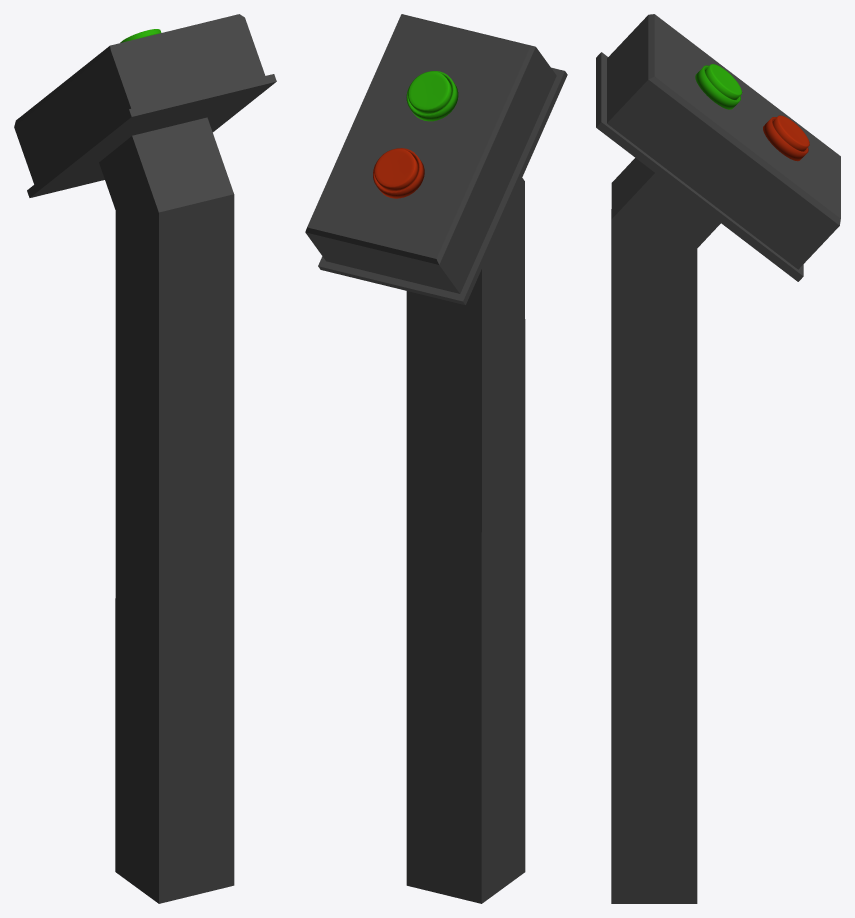
The model's file is ControlPanelDraco.gltf.
3 views of the same model, side by side, from view 1: azimuth 30°, elevation 25°; view 2: azimuth 150°, elevation 25°; view 3: azimuth 270°, elevation 25° (orthographic).
Visible parts, largest first — view 1: Cube; view 2: Cube, GreenButton, RedButton; view 3: Cube, GreenButton, RedButton.
Boxes of the visible parts, box(x1,y1,x2,y2) form: Cube: box(14, 14, 276, 903); Cube: box(305, 14, 567, 903); GreenButton: box(408, 71, 451, 113); RedButton: box(374, 148, 418, 191); Cube: box(596, 14, 840, 903); GreenButton: box(705, 64, 742, 99); RedButton: box(772, 115, 809, 151).
Size of the model in its own units: 31.6 by 177 by 46.61.
Materials: 3 (1 with a texture image).
